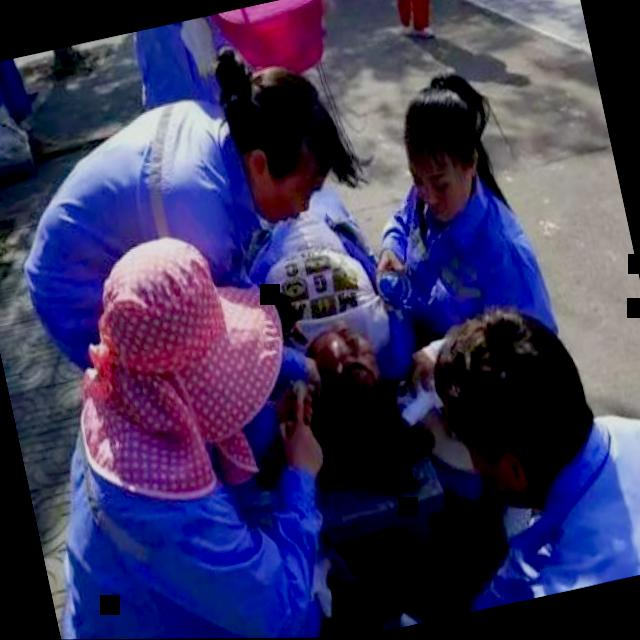Fall-Detected: (215, 154, 440, 483)
